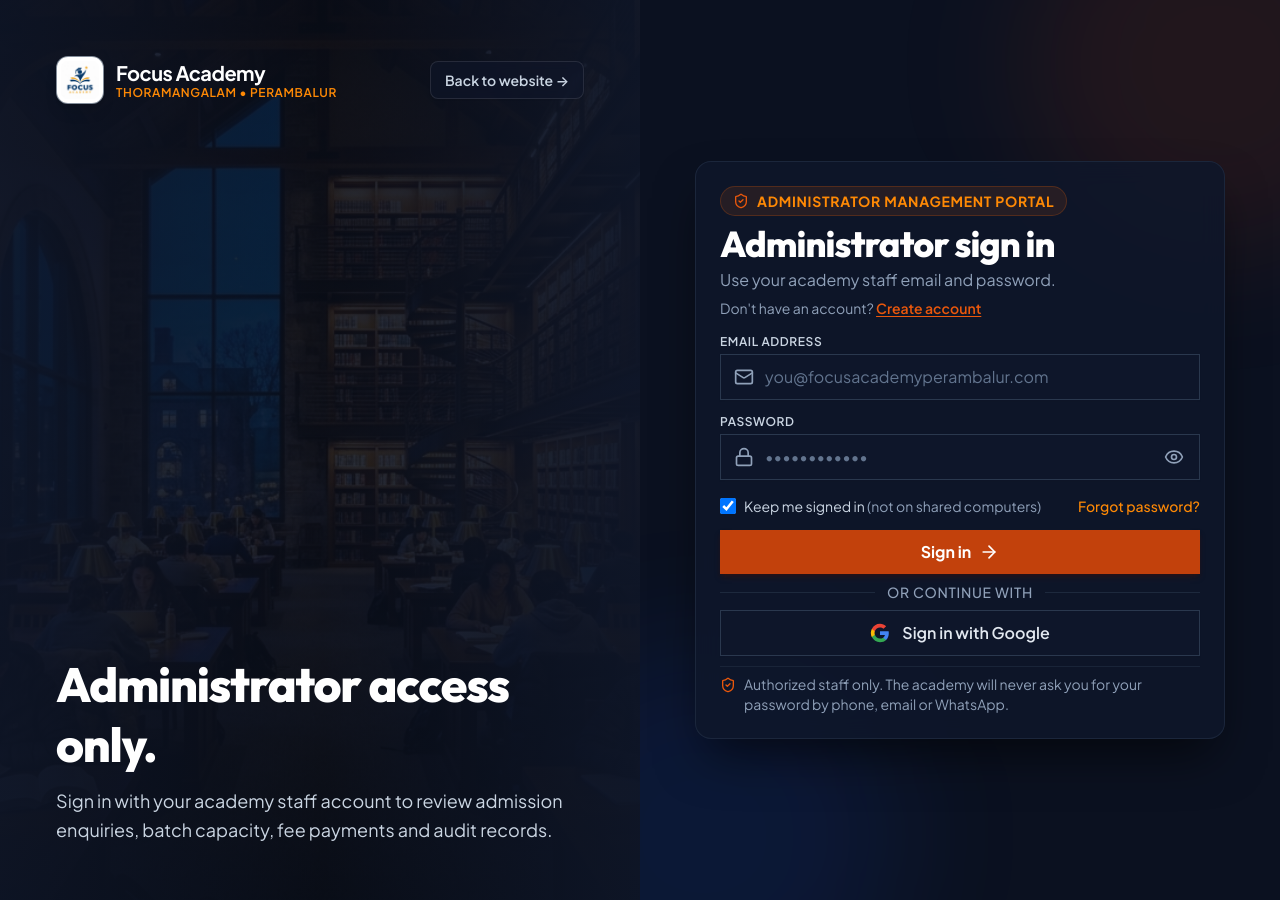
Test: Admin login page › signs a valid but non-admin account straight back out
Type "parent@gmail.com" into the field labelled "Email address" at (960, 377), box [720,354,1200,400]
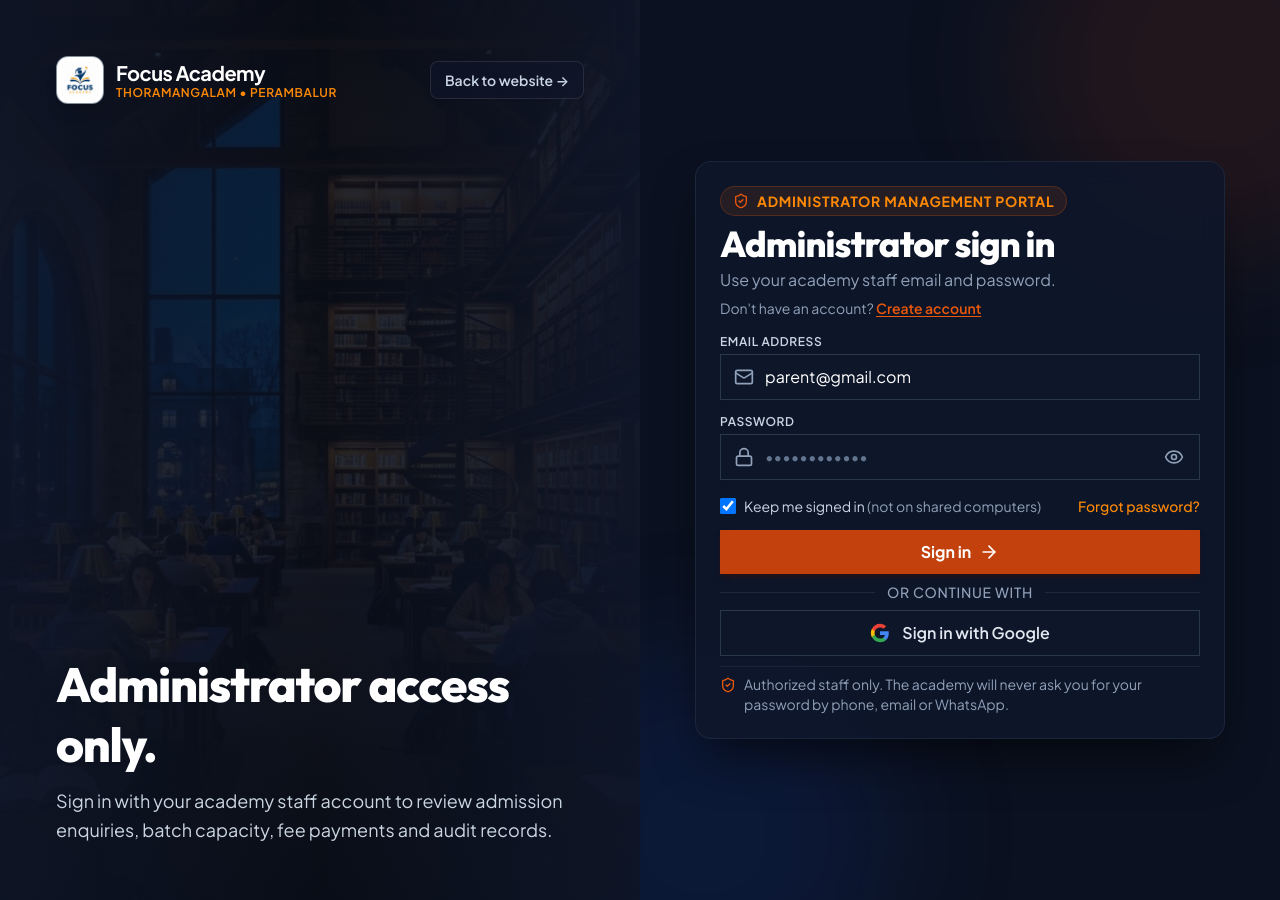
Type "Correct-horse-9" into the password field labelled "Password" at (960, 457), box [720,434,1200,480]
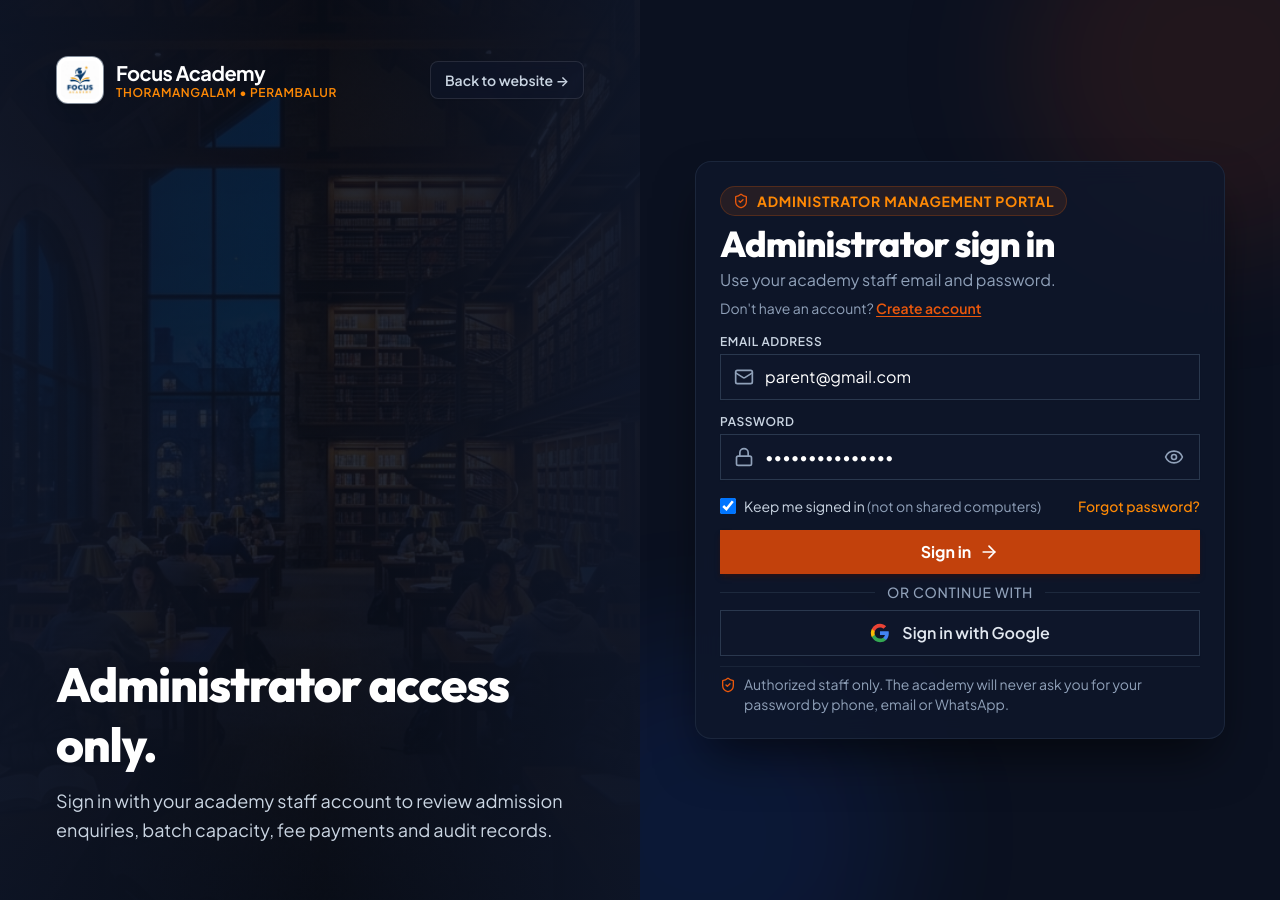
Click the button "Sign in" at (960, 552), box [720,530,1200,574]
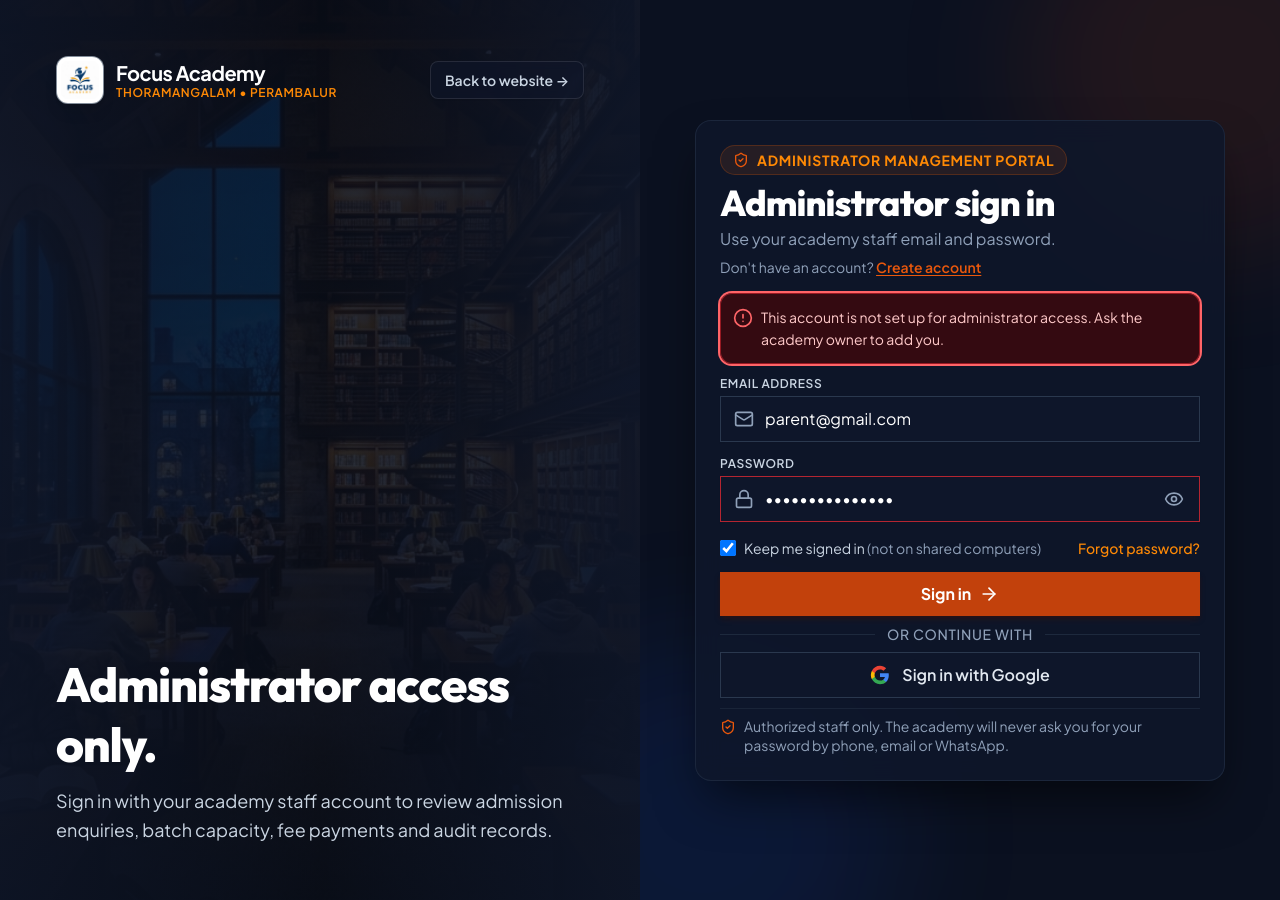
Now the message shows "not set up for administrator access", box [761,308,1142,348]
